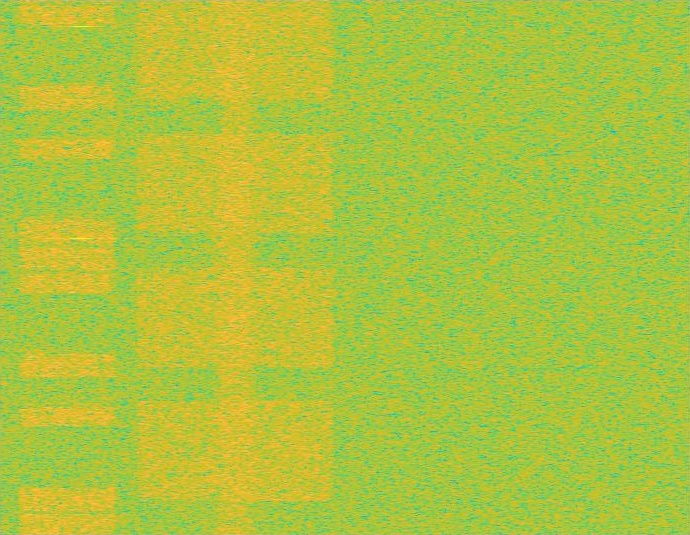5G: (132, 0, 339, 534)
DSSS: (212, 0, 258, 534)
LTE: (16, 0, 119, 534)
Radar: (74, 0, 88, 534)
